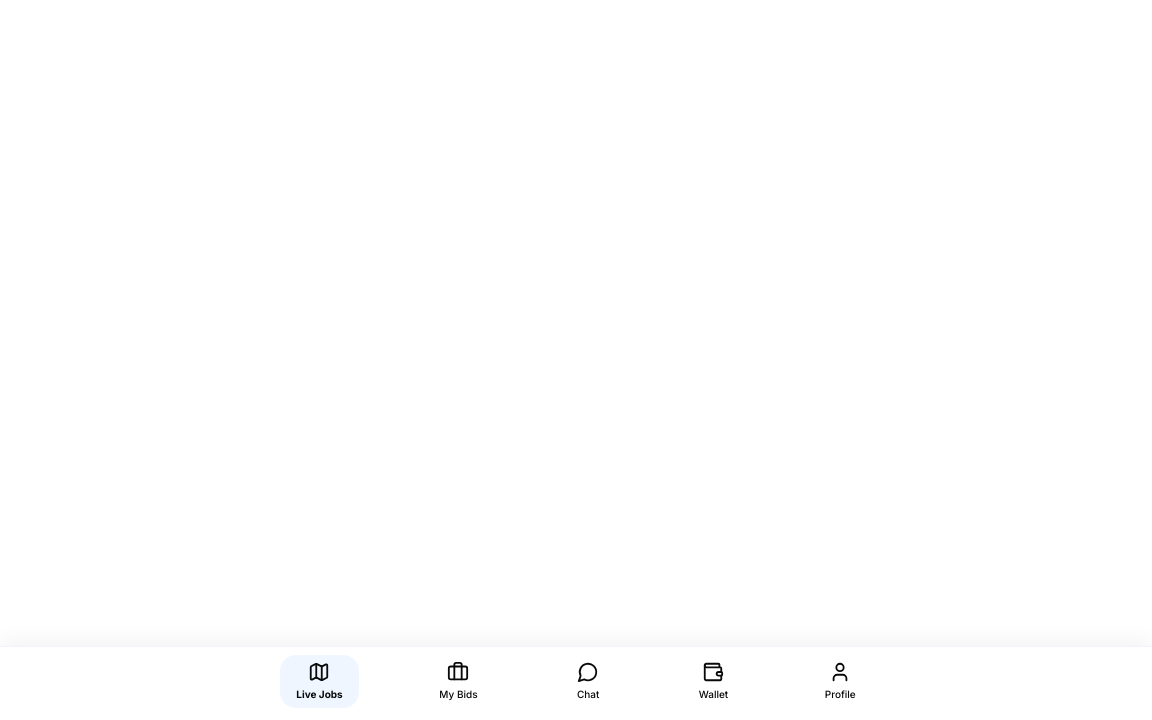
Test case: ProviderApp — provider with profile › shows safe error copy when availability PATCH fails (no raw payload in DOM)
Click the link "Profile" at (840, 680), box [825,661,856,700]
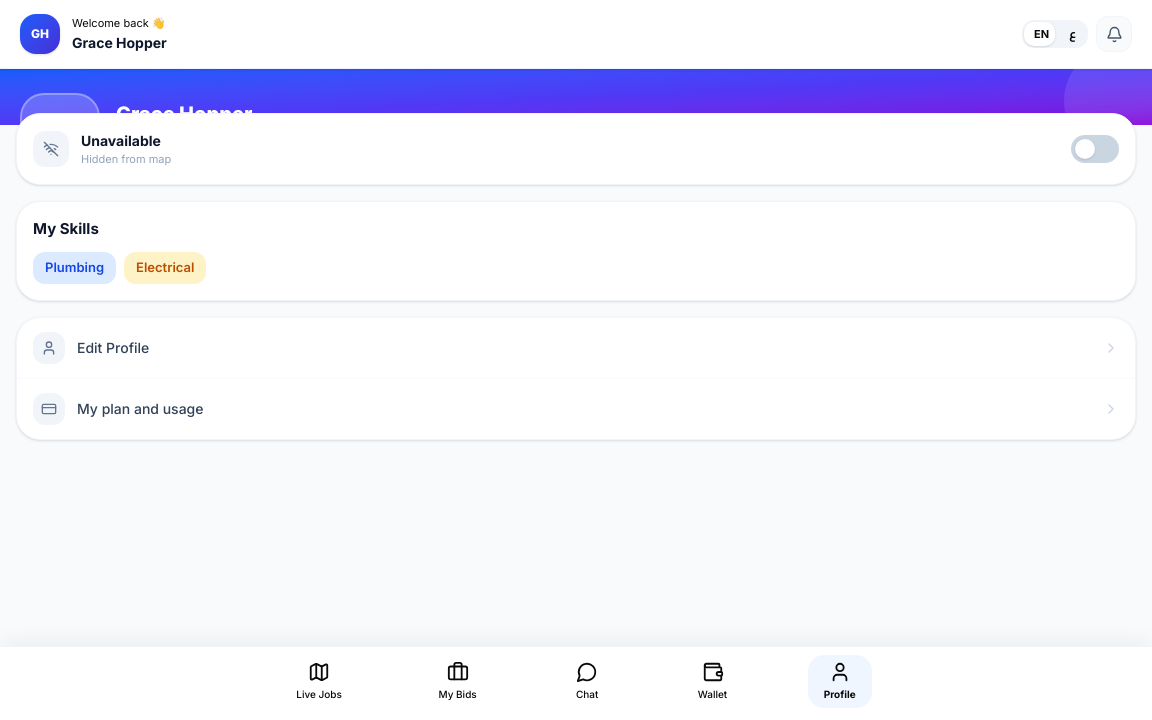
expect the text "Grace Hopper" is shown: met, box [72,32,167,53]
Click the button named "Unavailable" at (1095, 149), box [1071,135,1119,163]
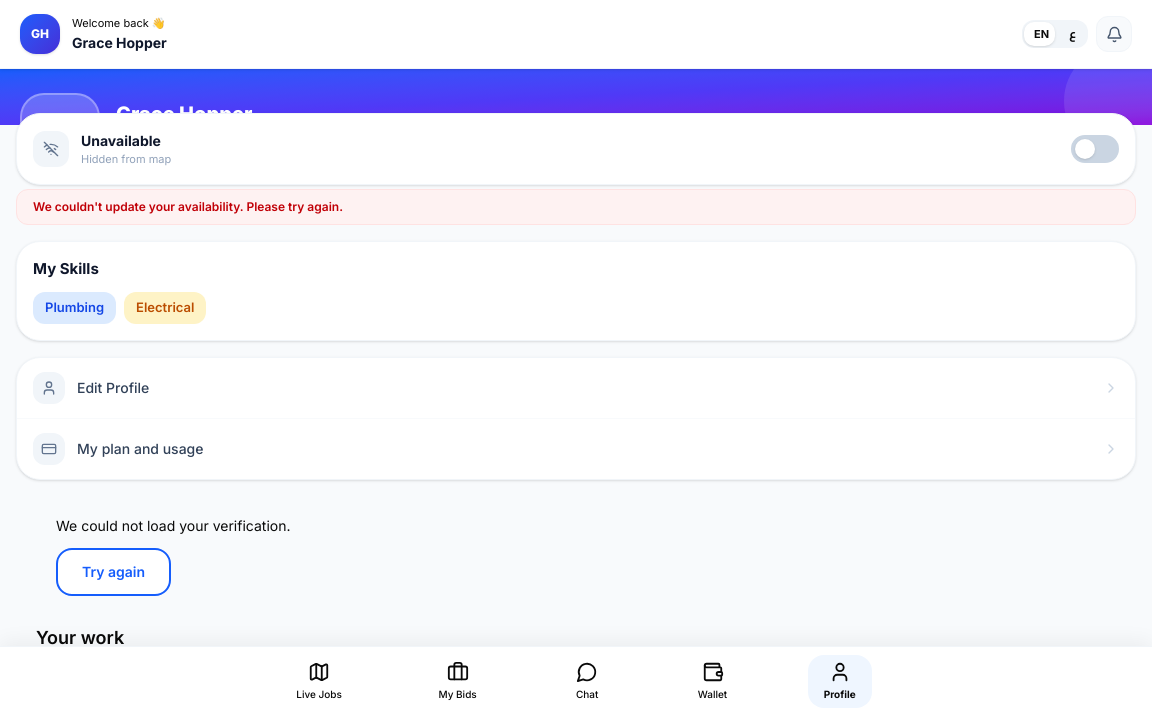
expect the text "We couldn't update your availability. Please try again." is shown: met, box [16,188,1136,224]
